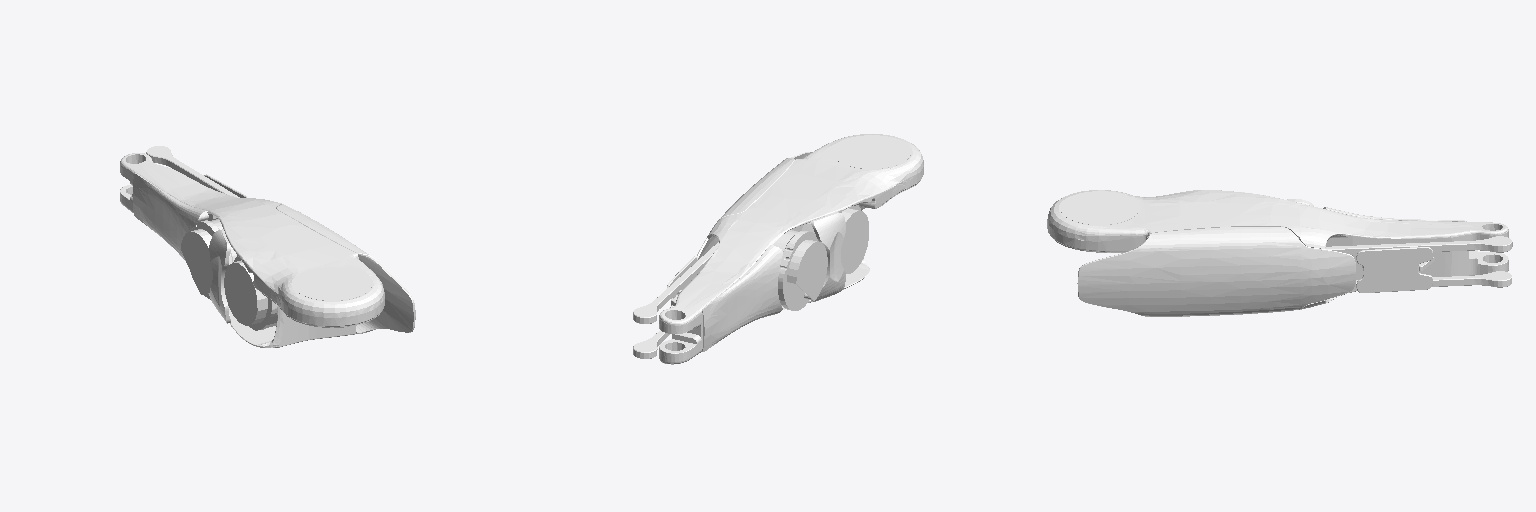
The model's file is left_knee_link_visuals.obj.
3 renders of one model, left to right at view 1: azimuth 30°, elevation 25°; view 2: azimuth 150°, elevation 25°; view 3: azimuth 270°, elevation 25°, orthographic.
Bounding box in the file's own units: 0.1038 × 0.0717 × 0.3551.